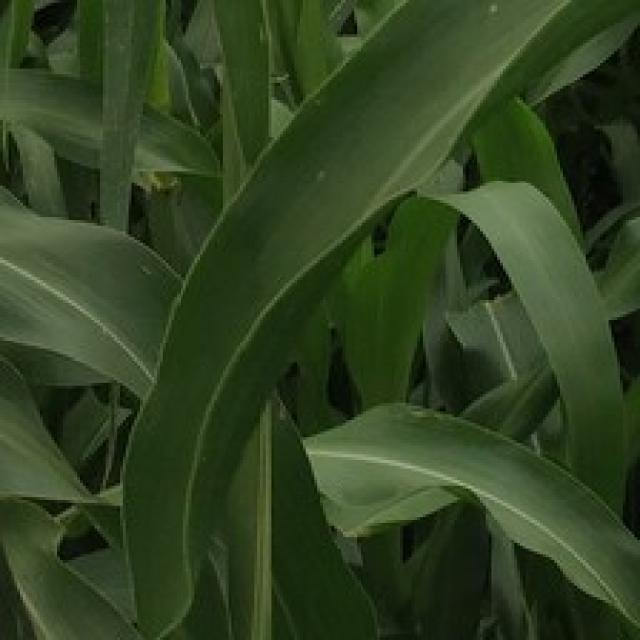Corn: (0, 0, 637, 637), (297, 397, 637, 637), (0, 166, 183, 400)
